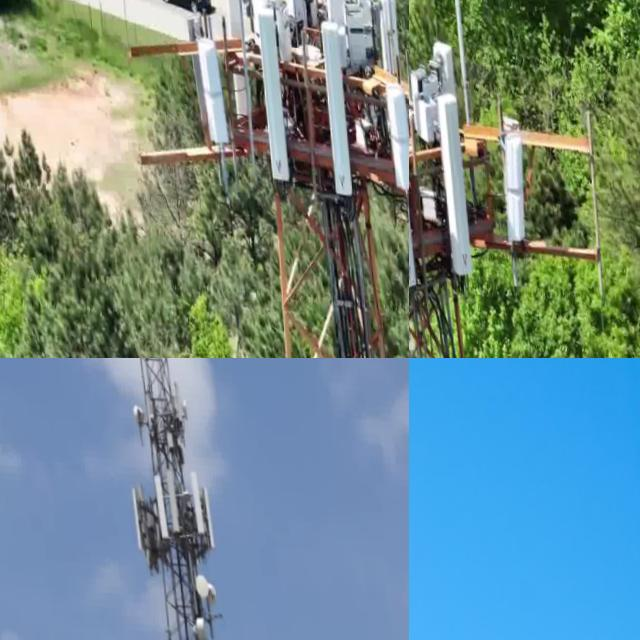GSM Antenna: (302, 0, 353, 211), (241, 0, 290, 195), (427, 74, 473, 279), (367, 62, 409, 192), (189, 30, 230, 154), (210, 0, 251, 115), (183, 458, 202, 535), (196, 469, 214, 548), (147, 463, 166, 536), (159, 459, 177, 528), (120, 483, 137, 546)
Microwave Antenna: (183, 560, 204, 595), (125, 393, 141, 430), (198, 575, 216, 601), (184, 610, 201, 637), (173, 388, 187, 417)
